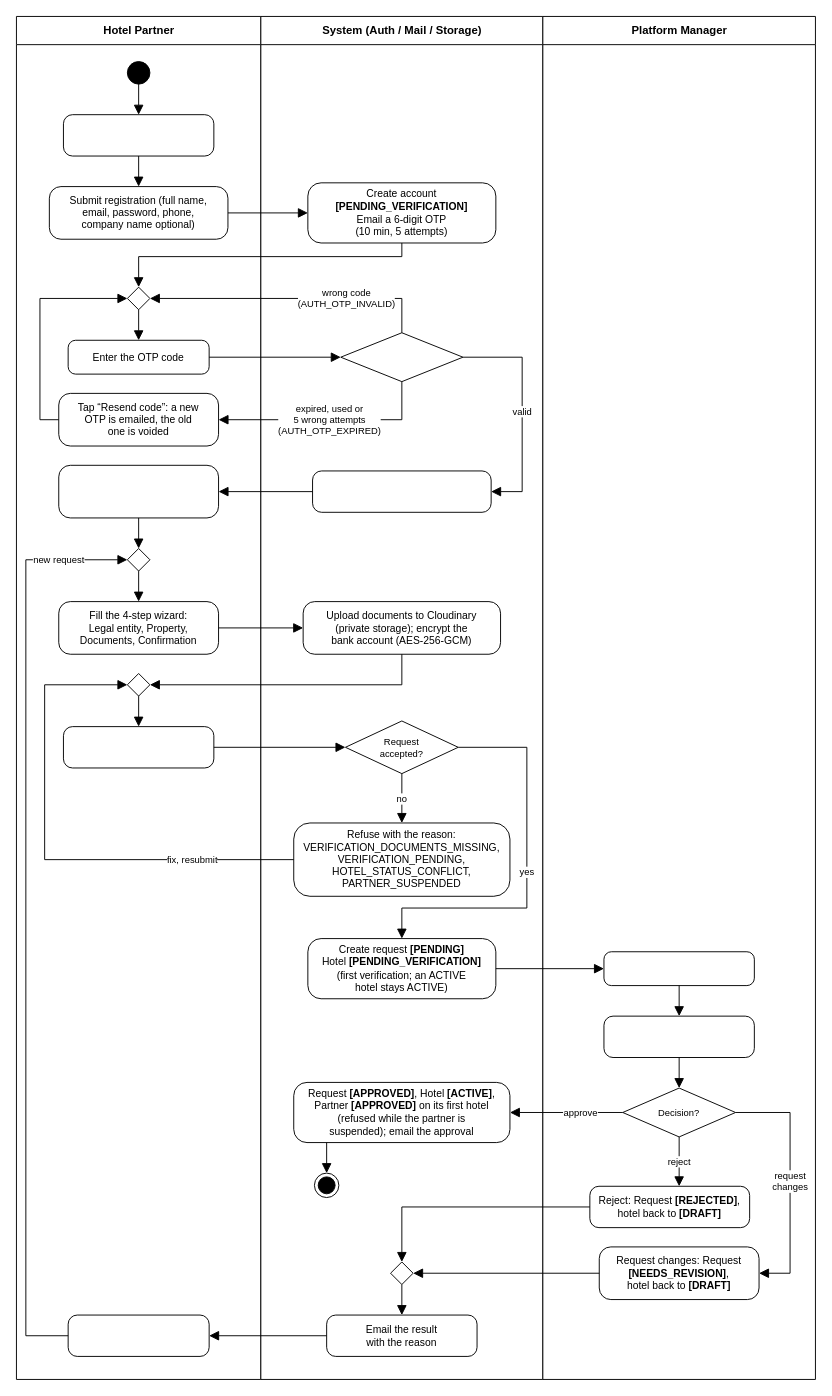
This 832x1396 diagram has some shape labels left out. The box of each missing label's shape, as (x1, y1, x2, y2) in pixels:
Activate account [ACTIVE] Issue access / refresh tokens: (312, 470, 491, 512)
Create hotel [DRAFT] Set room config, room types and rooms: (58, 464, 219, 518)
Open the partner sign-up page: (63, 114, 214, 156)
Open the review queue: (603, 951, 754, 986)
OTP result?: (340, 332, 463, 382)
Read the reason and revise: (67, 1314, 209, 1356)
Submit the verification request: (63, 726, 214, 768)
View the documents (5-minute signed link): (603, 1015, 754, 1058)
